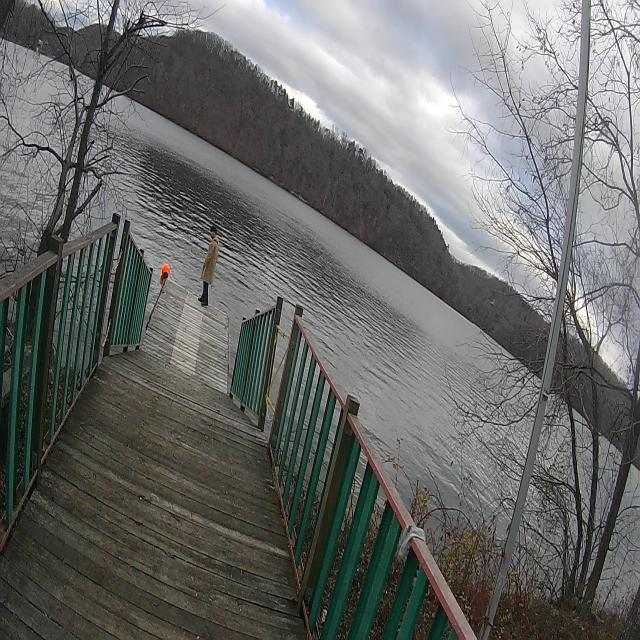Buoy: (161, 261, 170, 283)
